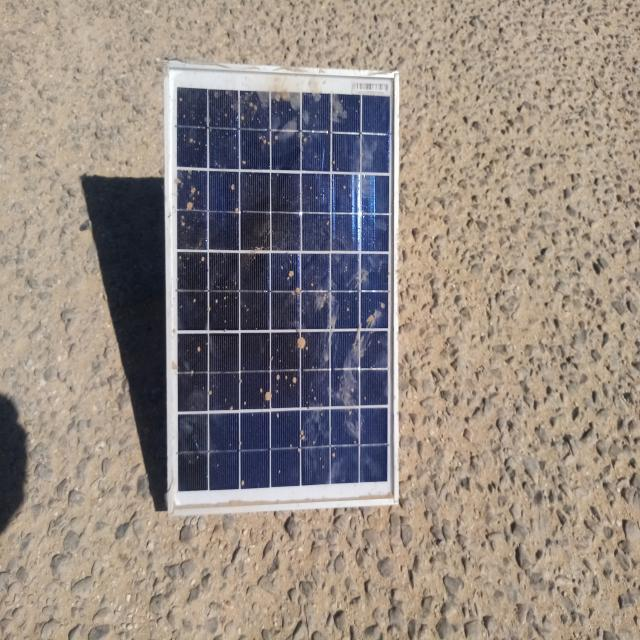faulty: (168, 66, 395, 511)
